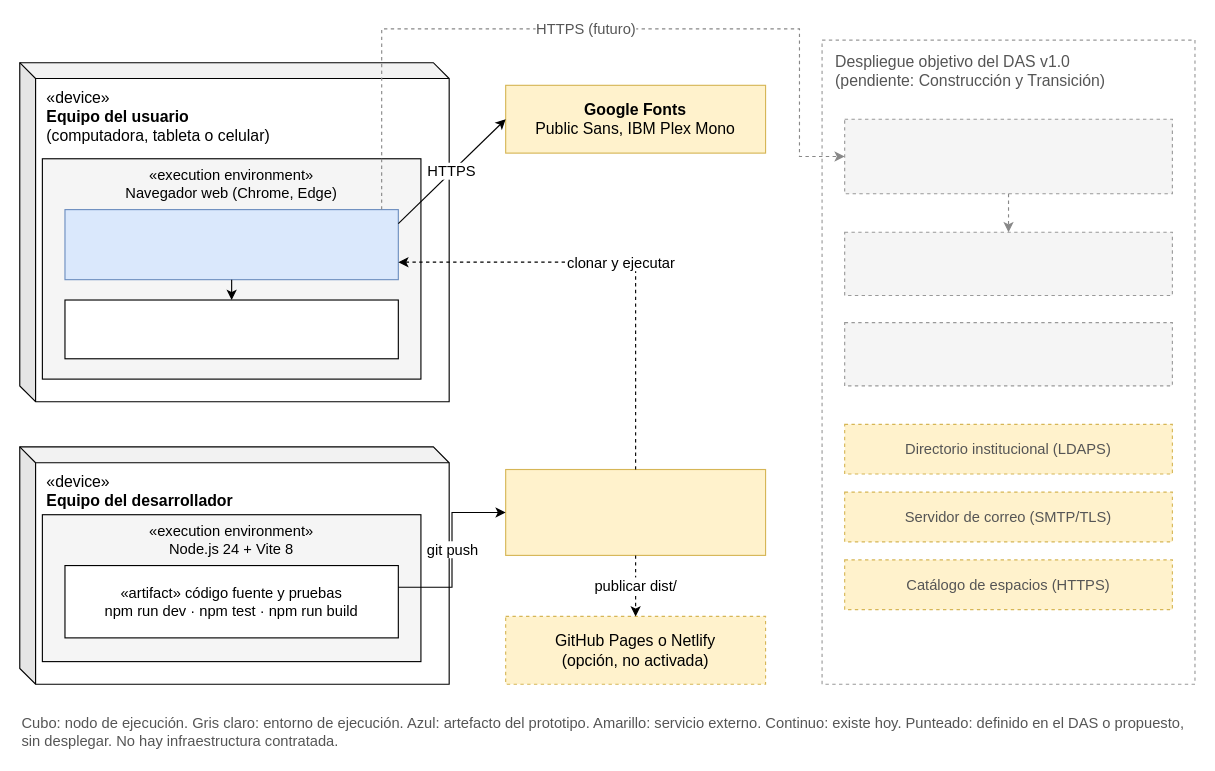
Image size: 1215x771. Some labels were removed from this diagram. The shapes that lost their labels are listed below. From the top down, each one's centre as x and y in pixels, then its label:
At (1008,156): "«device» Servidor de aplicaciones proxy HTTPS + API (contenedores)".
At (231,244): "«artifact» Prototipo CAMPUSFIX SPA de React compilada (dist/)".
At (1008,263): "«device» Servidor de base de datos SGBD relacional".
At (231,329): "«artifact» localStorage datos de la demostración".
At (1008,353): "«device» Almacenamiento de archivos evidencias (fotos)".
At (635,511): "GitHub · repositorio público Equipo02_CAMPUSFIX_Practica3".
